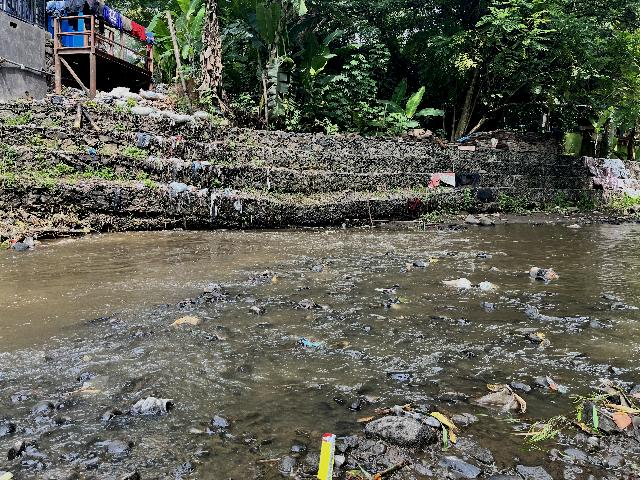Sampah Anorganik: (319, 432, 335, 480), (529, 265, 560, 282), (440, 277, 473, 290), (297, 335, 324, 346), (476, 281, 498, 292), (374, 288, 397, 295), (426, 257, 440, 264), (340, 273, 350, 279)
Sampah Organik: (366, 404, 457, 445), (579, 381, 640, 427), (477, 386, 529, 417), (531, 416, 571, 444), (539, 375, 568, 394), (59, 385, 102, 396), (372, 312, 408, 325), (167, 315, 199, 327), (325, 284, 357, 295), (388, 297, 409, 308), (532, 331, 548, 343), (330, 341, 348, 350), (257, 457, 281, 463), (305, 302, 318, 309), (319, 262, 328, 271), (272, 273, 279, 283), (175, 300, 190, 303), (407, 265, 411, 271), (246, 279, 253, 282)
